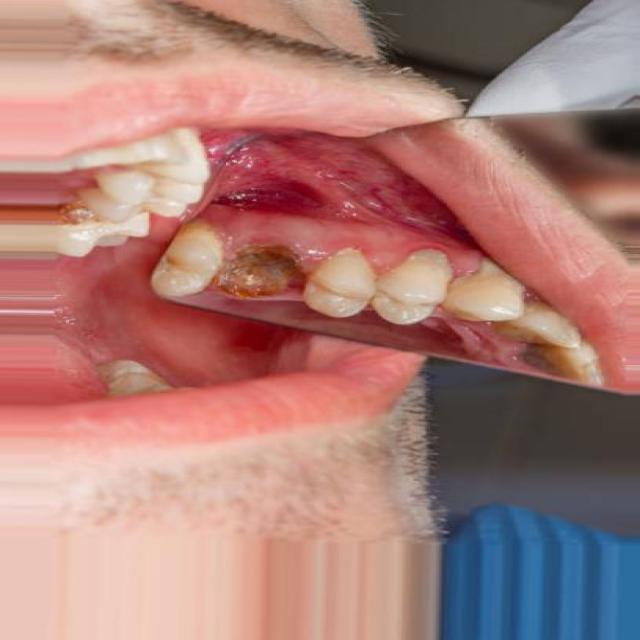caries: (200, 240, 324, 308), (51, 187, 130, 243), (518, 336, 601, 388)
